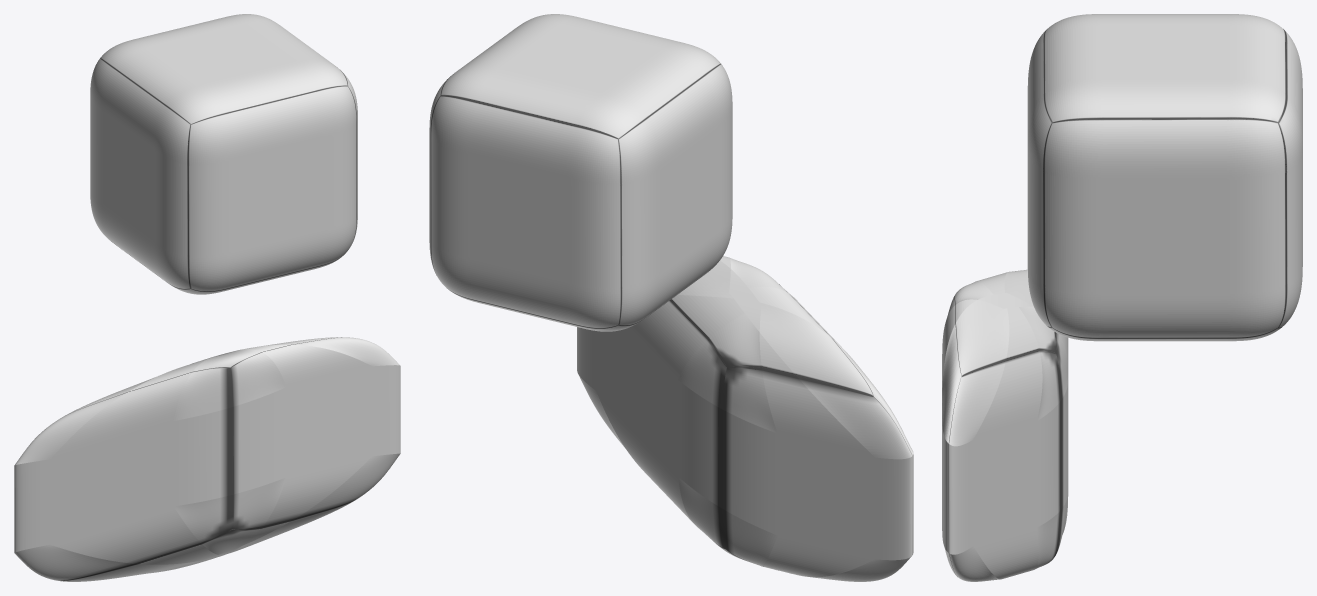
File: tile2.fbx
3 views of the same model, side by side, from view 1: azimuth 30°, elevation 25°; view 2: azimuth 150°, elevation 25°; view 3: azimuth 270°, elevation 25° (orthographic). The views are drawn at different scales.
Parts seen in each view (by area): view 1: Cube.000, Cube.001; view 2: Cube.001, Cube.000; view 3: Cube.001, Cube.000.
Part boxes in pixels (left/top/right/bottom): Cube.000: left=14, top=337, right=400, bottom=581; Cube.001: left=90, top=14, right=357, bottom=294; Cube.001: left=429, top=14, right=732, bottom=331; Cube.000: left=577, top=256, right=913, bottom=581; Cube.001: left=1027, top=14, right=1302, bottom=341; Cube.000: left=942, top=269, right=1068, bottom=581.
Bounding box in the file's own units: 363 × 453 × 262.
1 material, 1 textured.
